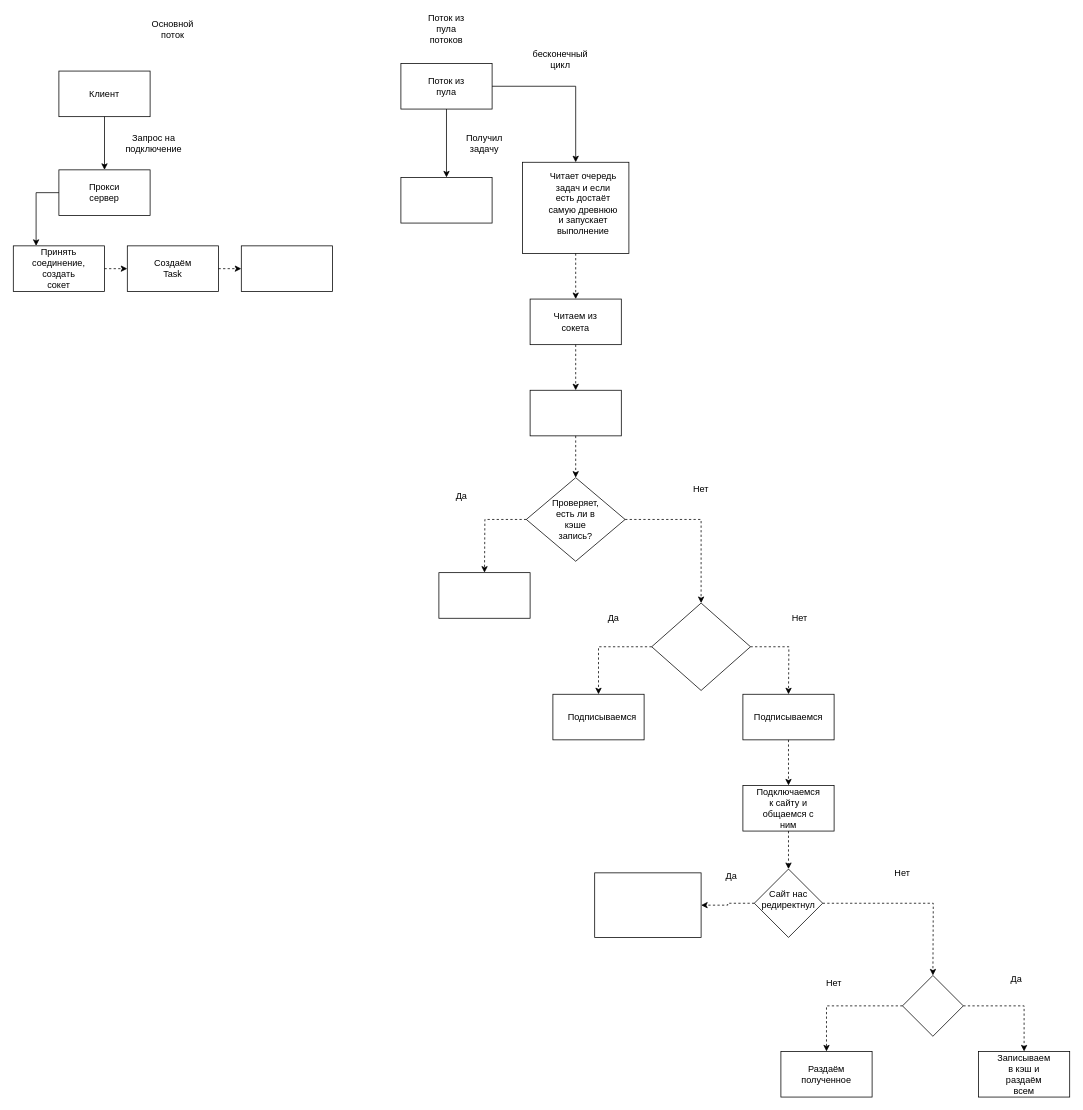
The diagram is 1083 pixels wide and 1110 high, and some of its shapes have lost their labels. The centre of each missing label's shape, as x and y in pixels:
"Есть ли подписки на данный url в менеджере?" goes at point (700, 646).
"Закидываем в очередь тредпула" goes at point (286, 268).
"Записал задачу в очередь задач" goes at point (446, 200).
"Код 200?" goes at point (932, 1005).
"Отправляем данные клиенту" goes at point (484, 595).
"Переделываем url в запросе и заново отправляем, общаемся" goes at point (647, 904).
"Распарсшиваем запрос" goes at point (575, 413).
